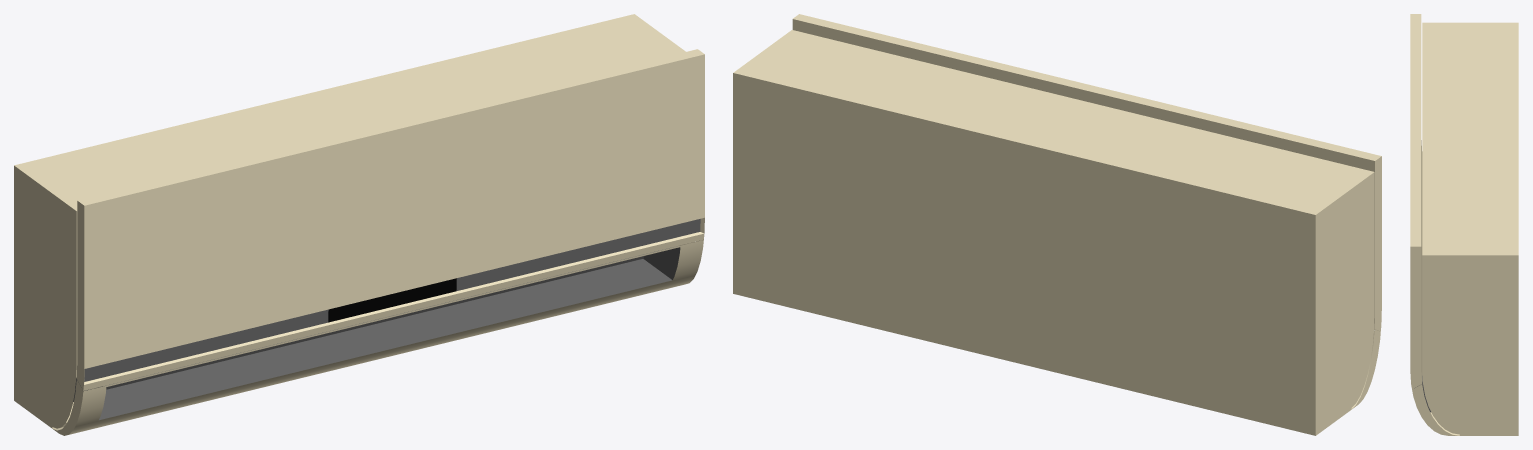
The model's file is ACbreakroom.fbx.
3 renders of one model, left to right at view 1: azimuth 30°, elevation 25°; view 2: azimuth 150°, elevation 25°; view 3: azimuth 270°, elevation 25°, orthographic. The views are drawn at different scales.
Parts seen in each view (by area): view 1: AC; view 2: AC; view 3: AC.
Boxes of the visible parts, bbox=[...] form: AC: bbox=[14, 14, 704, 435]; AC: bbox=[733, 14, 1381, 435]; AC: bbox=[1410, 14, 1518, 435].
Bounding box in the file's own units: 0.9155 × 0.3475 × 0.18.
